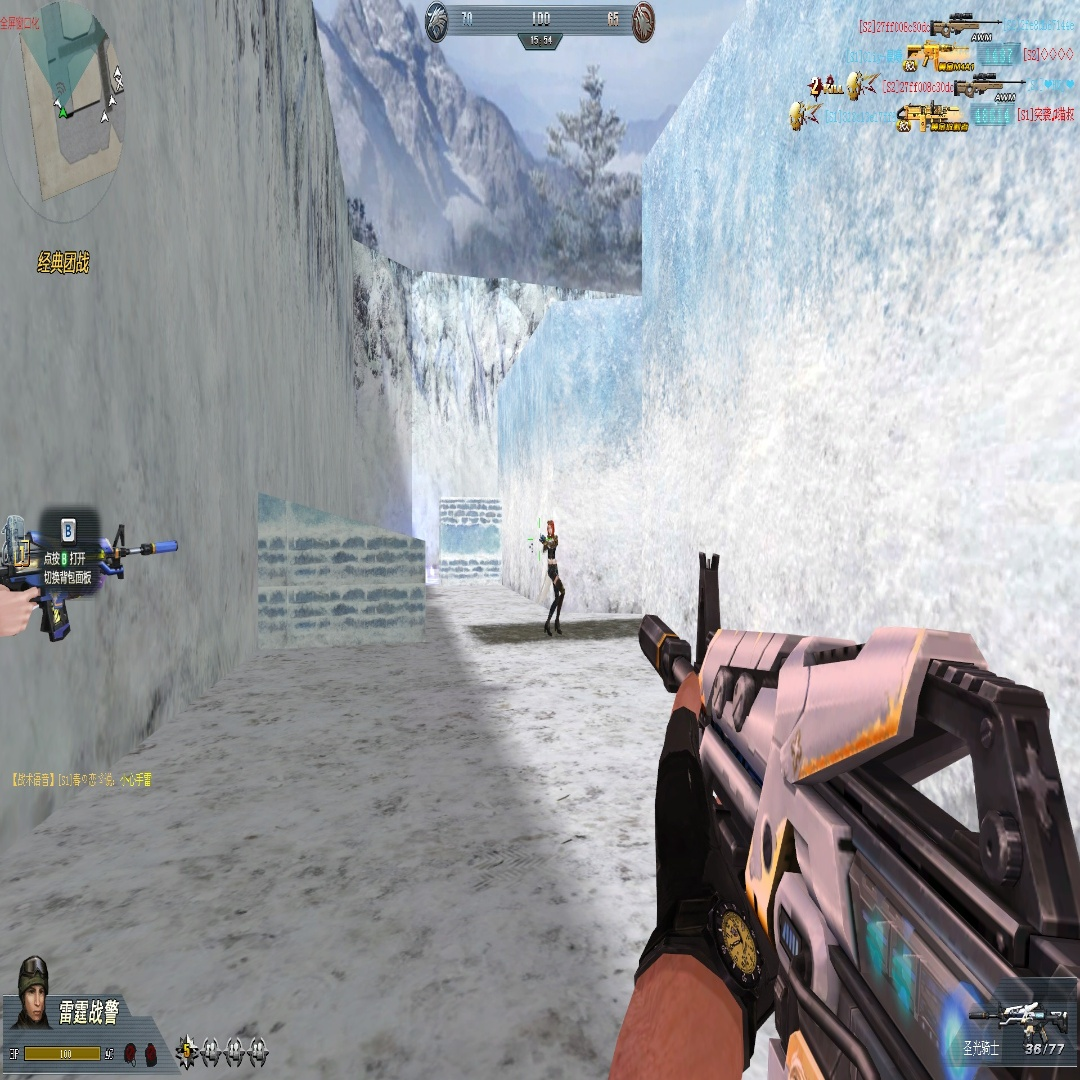t: (541, 519, 565, 634)
